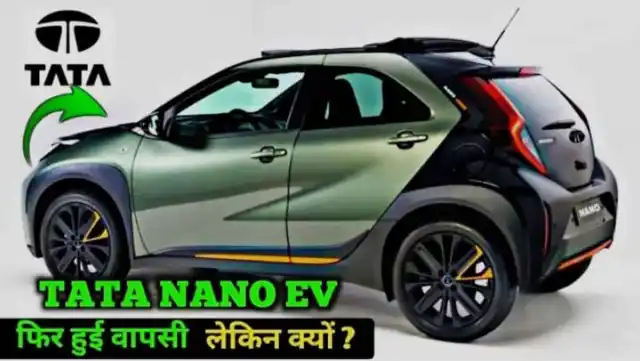Nano: (22, 37, 620, 346)
